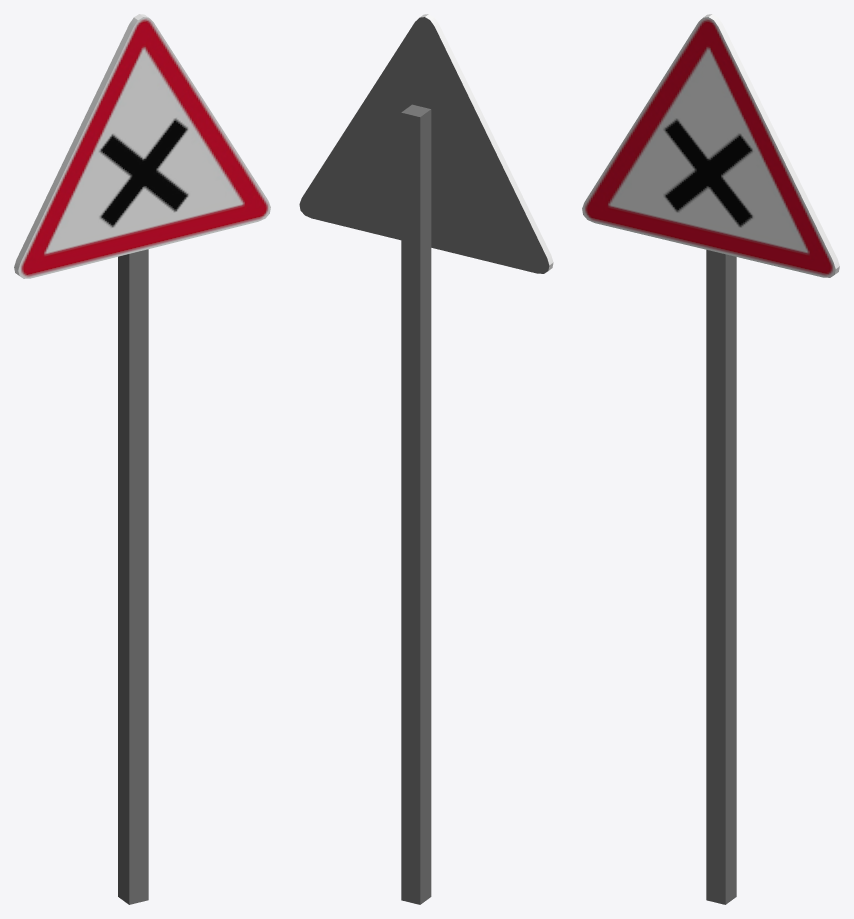
File: PrioRight.obj
3 views of the same model, side by side, from view 1: azimuth 30°, elevation 25°; view 2: azimuth 150°, elevation 25°; view 3: azimuth 330°, elevation 25° (orthographic).
Parts seen in each view (by area): view 1: Sign_PriorityToTheRight; view 2: Sign_PriorityToTheRight; view 3: Sign_PriorityToTheRight.
Part boxes in pixels (x1=…): Sign_PriorityToTheRight: x1=14, y1=14, x2=270, y2=904; Sign_PriorityToTheRight: x1=299, y1=14, x2=553, y2=904; Sign_PriorityToTheRight: x1=582, y1=14, x2=839, y2=904.
Size of the model in its own units: 1.47 by 4.94 by 0.1792.
1 material, 1 textured.
